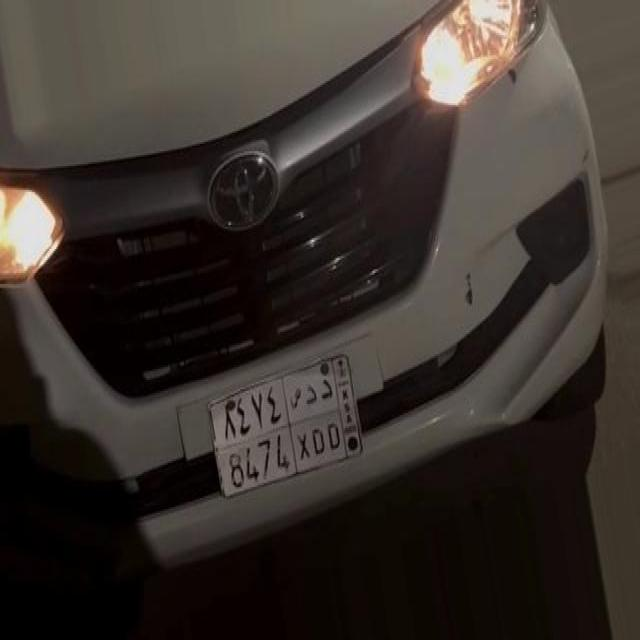Car-plate: (198, 326, 379, 522)
